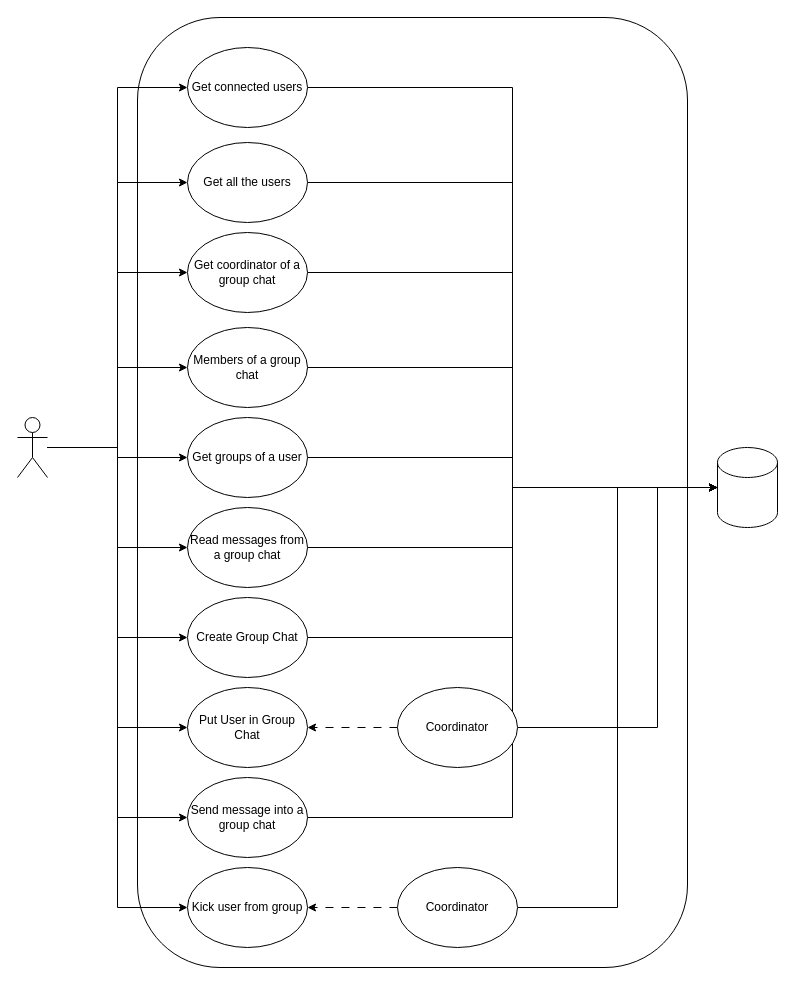
Some shapes in this 795 by 985 pixel diagram are drawn without their labels. The centre of each missing label's shape, as x and y in pixels:
"Database" goes at (x=747, y=487).
"User" goes at (x=32, y=447).
